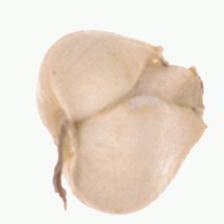L3: (141, 44, 209, 133)
L4: (37, 29, 208, 214)
